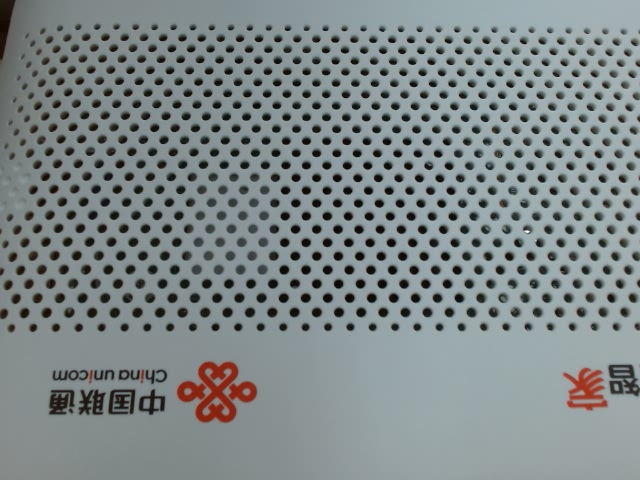AD_ChinaUnicom: (34, 351, 268, 437)
